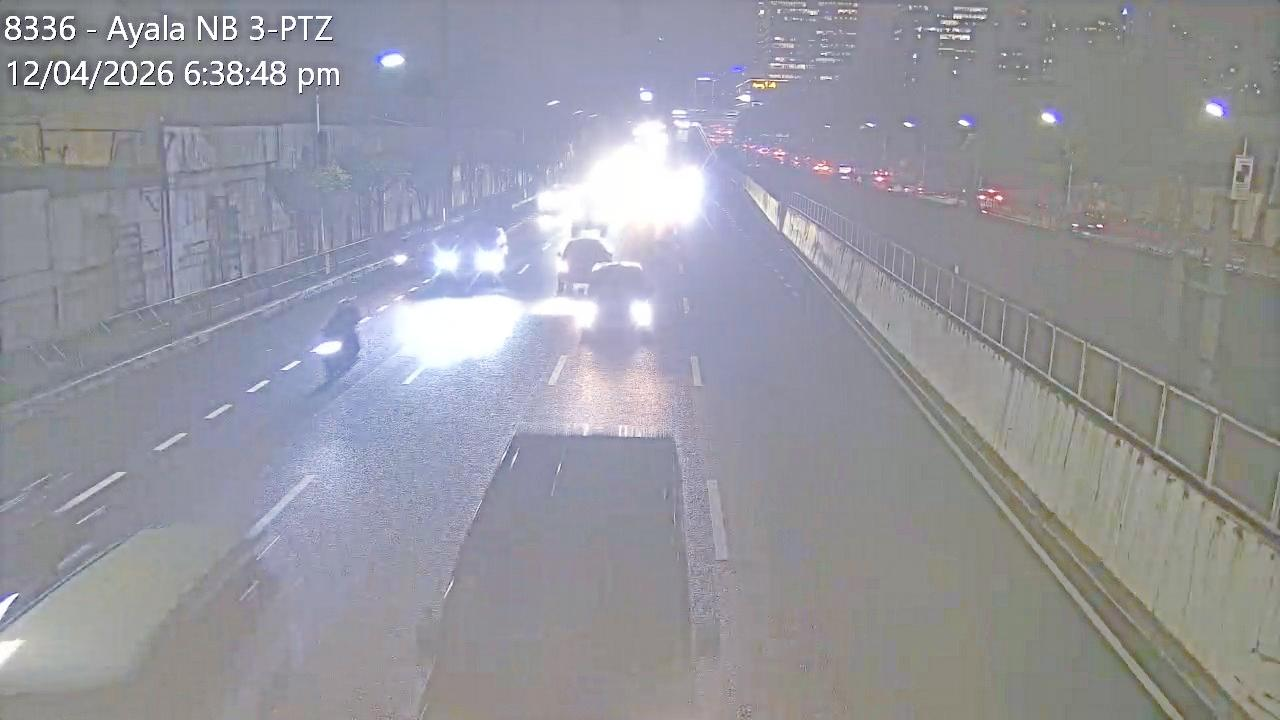Car: (411, 426, 694, 714), (3, 512, 290, 715), (428, 220, 511, 290), (584, 260, 654, 336), (557, 237, 614, 294)
Motor: (316, 306, 369, 387)
Not Accident: (561, 237, 650, 325)
